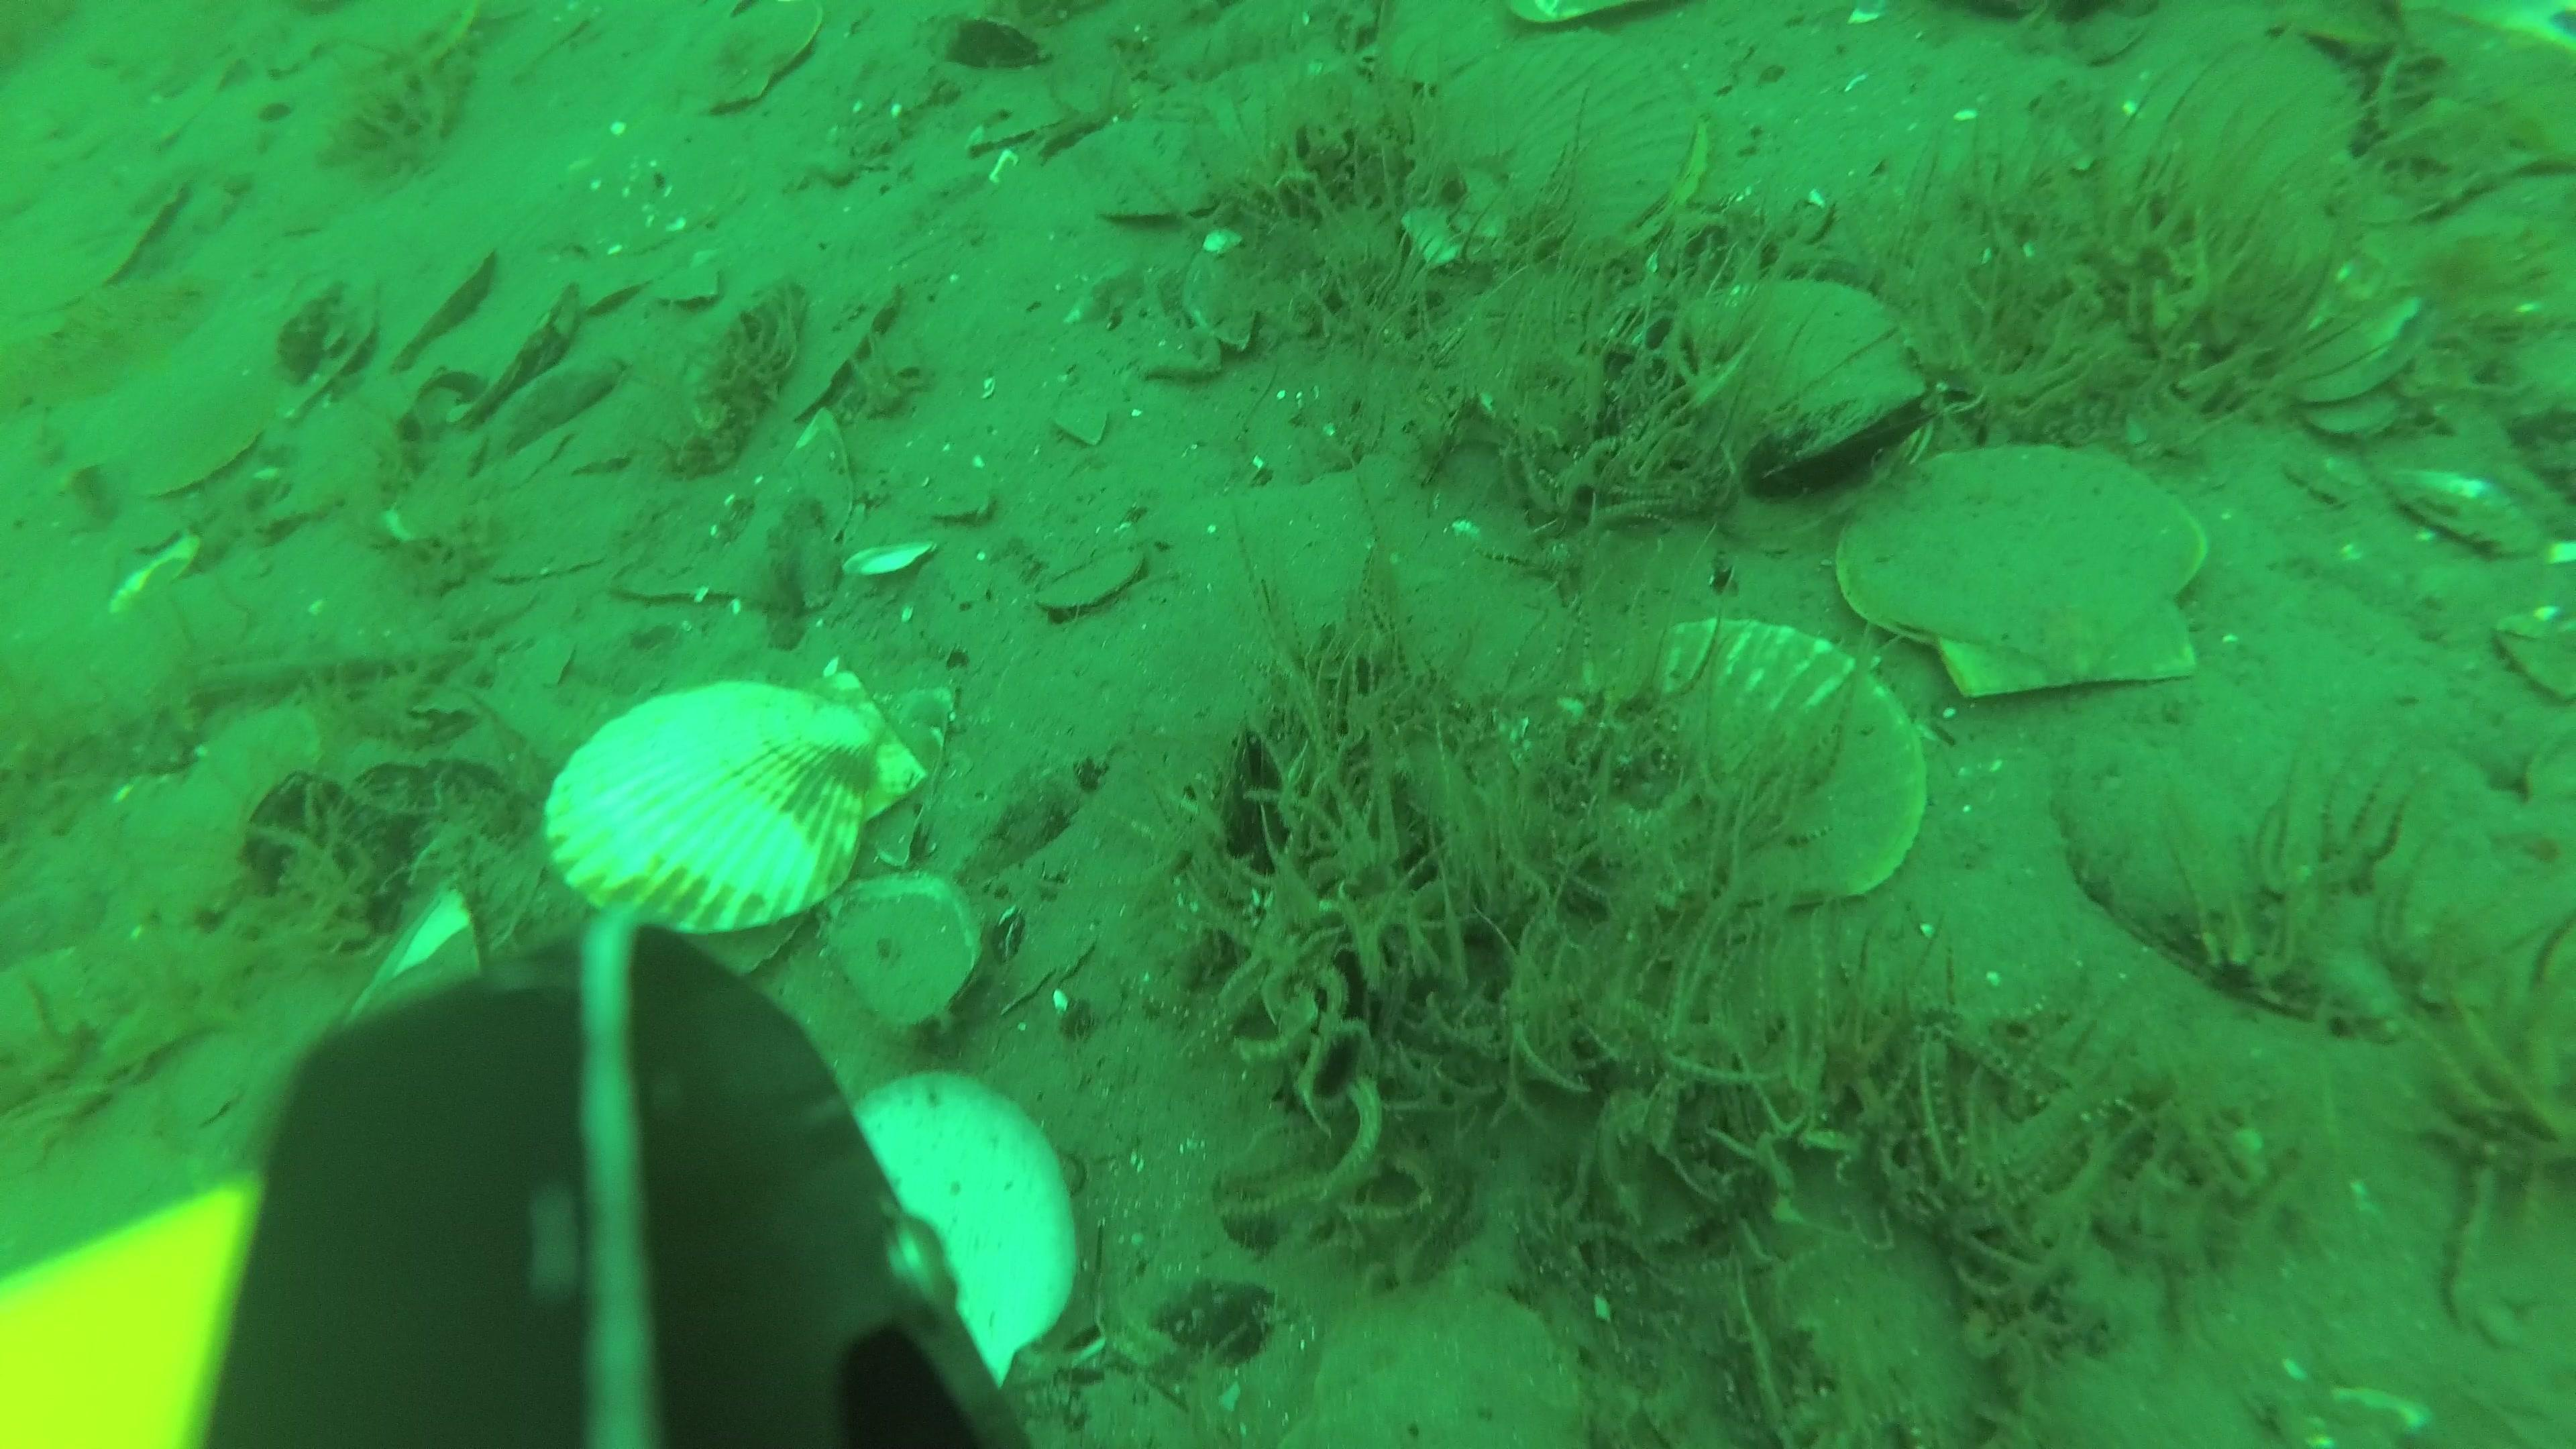scallop: (541, 663, 932, 947), (1829, 448, 2206, 706), (1591, 626, 1927, 901), (847, 1072, 1079, 1385), (1414, 30, 1721, 260), (1668, 276, 1918, 492), (1315, 1270, 1599, 1449), (2125, 42, 2355, 237), (688, 4, 835, 126), (129, 396, 265, 513), (1035, 554, 1146, 632)
